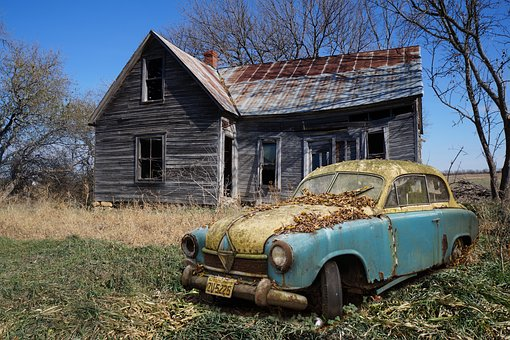rust: (178, 269, 311, 314), (200, 245, 273, 281), (264, 241, 301, 274), (178, 233, 199, 258), (437, 231, 450, 266)
